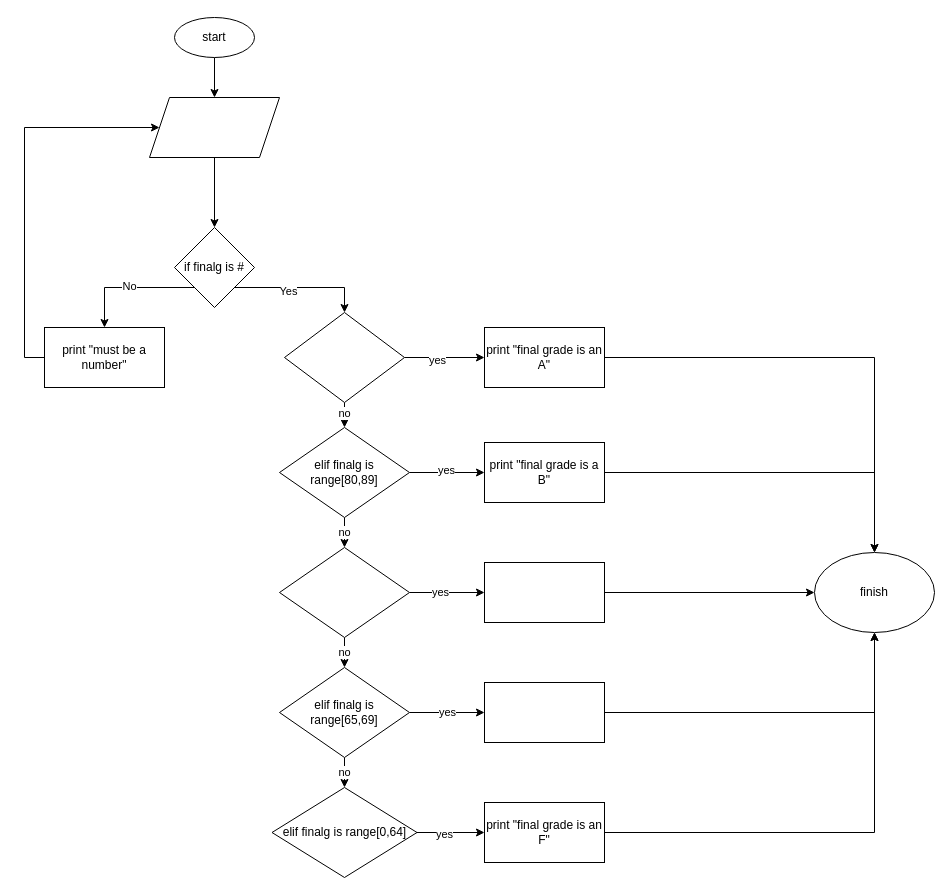
Image size: 952x895. Some labels were removed from this diagram. Each missing label, with the centre of its shape:
elif finalg is range[70,79]: (x=344, y=592)
finalg-"final score (as a #/%)": (x=214, y=127)
if finalg is range[90,100]: (x=344, y=357)
print "final grade is a C": (x=544, y=592)
print "final grade is a D": (x=544, y=712)
